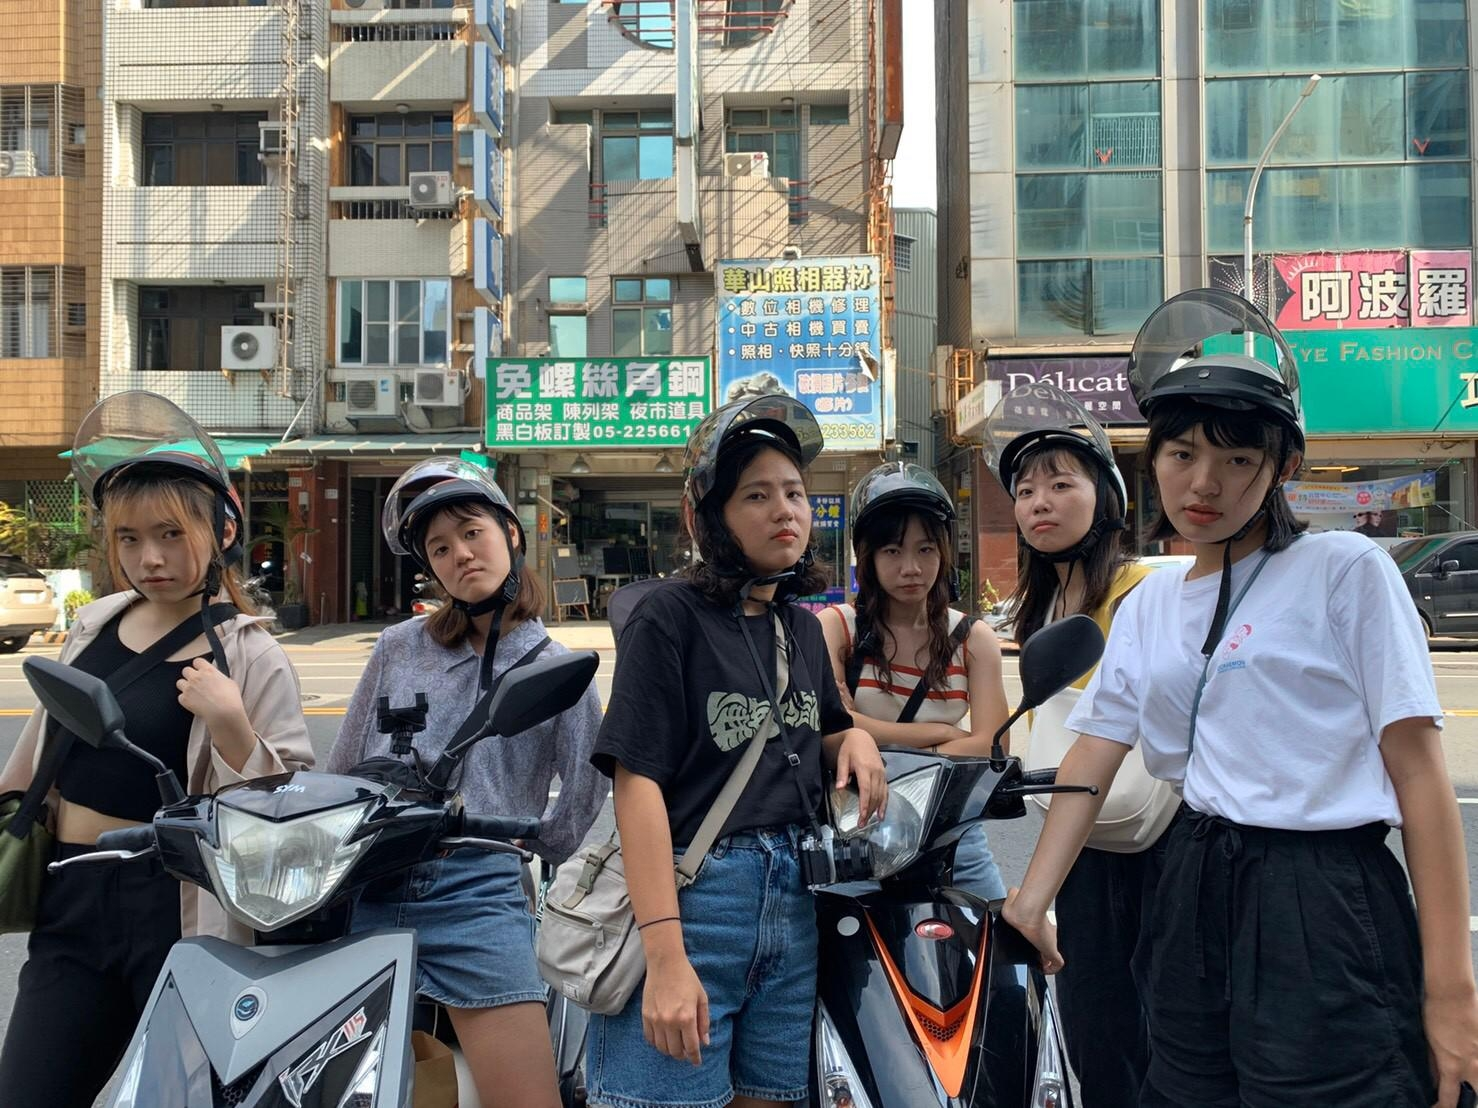people: (1138, 317, 1478, 1108), (644, 448, 815, 1108), (81, 467, 254, 1108), (390, 498, 558, 1108), (998, 440, 1229, 857), (823, 492, 996, 777)
